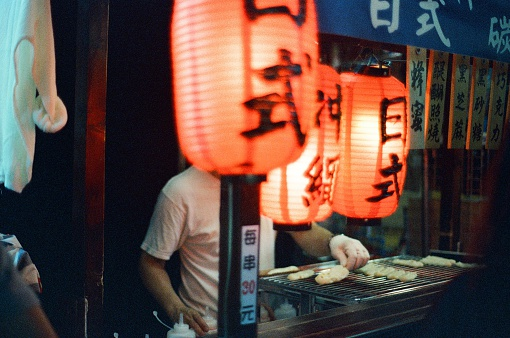em pe: (124, 30, 351, 338)
